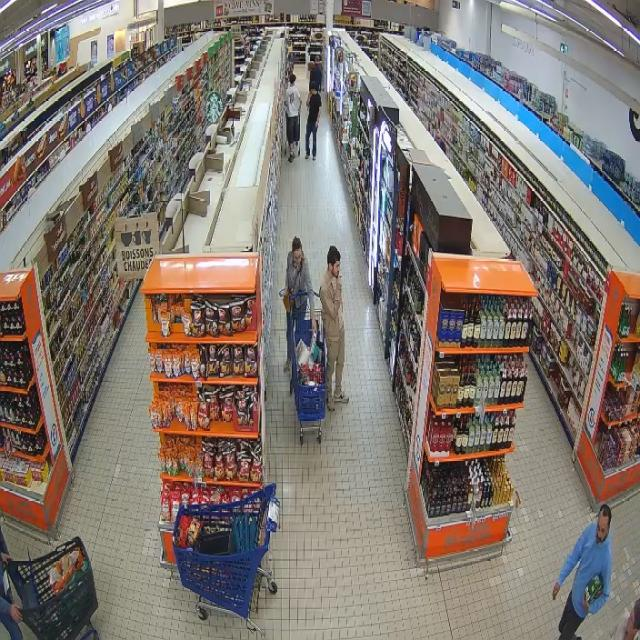article: (585, 574, 603, 602), (309, 332, 316, 353)
bags: (279, 289, 291, 313)
hands: (552, 583, 560, 600), (336, 276, 342, 290), (312, 317, 317, 333), (583, 600, 588, 611)
person: (554, 504, 612, 639), (319, 246, 348, 410), (284, 237, 317, 370)
